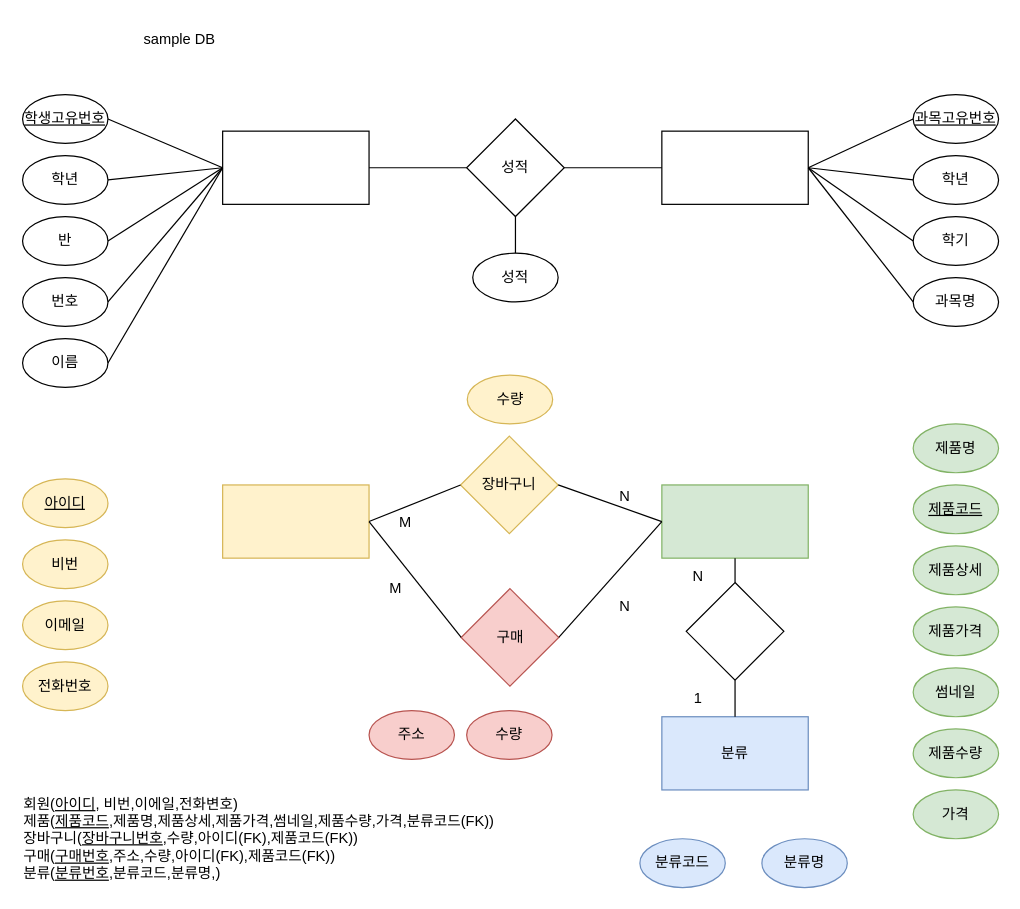
Some shapes in this 1020 by 909 pixel diagram are drawn without their labels. The shapes that lost their labels are listed below. From the top down, each one's box as (x1, y1, x2, y2) in pixels, then its label:
(221, 130, 369, 204): 학생
(661, 130, 808, 204): 과목
(221, 484, 369, 558): 회원
(661, 484, 808, 558): 제품
(685, 581, 784, 680): 포함
